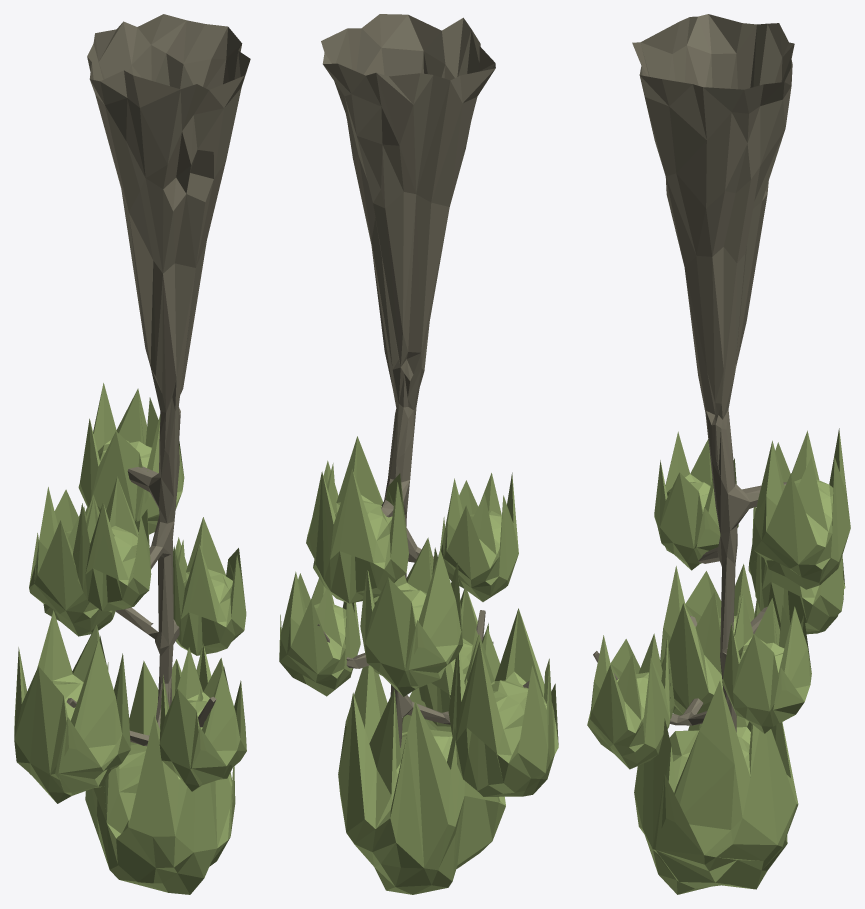
File: Cypress.fbx
3 renders of one model, left to right at view 1: azimuth 30°, elevation 25°; view 2: azimuth 150°, elevation 25°; view 3: azimuth 270°, elevation 25°, orthographic.
Parts seen in each view (by area): view 1: Leafes, Trunk; view 2: Leafes, Trunk; view 3: Leafes, Trunk.
Part boxes in pixels (x1,y1,x2,y2): Leafes: [14, 383, 246, 894]; Trunk: [66, 14, 250, 746]; Leafes: [279, 436, 558, 894]; Trunk: [317, 14, 529, 747]; Leafes: [587, 428, 850, 894]; Trunk: [593, 14, 794, 732].
Size of the model in its own units: 602 by 1978 by 557.
